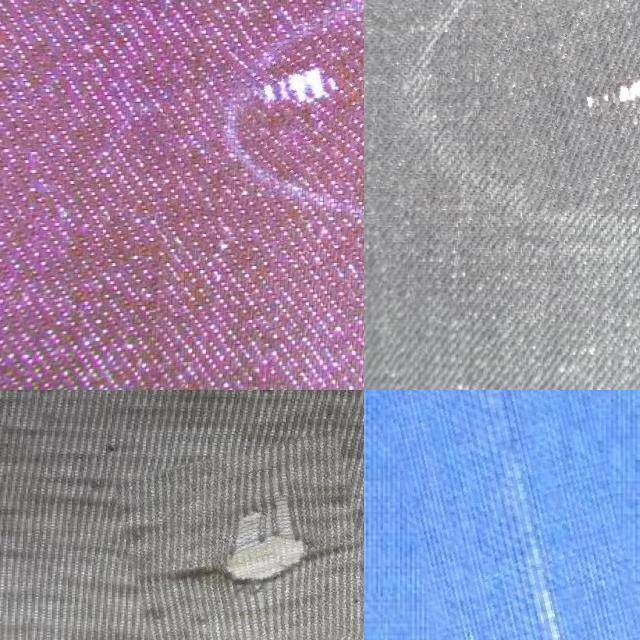Thread_other: (400, 390, 640, 640), (494, 0, 640, 206), (234, 27, 364, 187)
seam: (121, 441, 364, 640)
